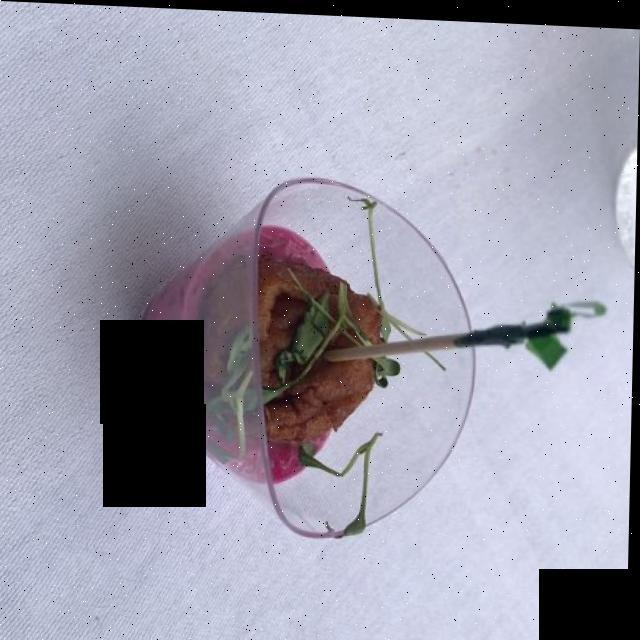falafel-balls: (212, 264, 389, 446)
sauce: (143, 221, 330, 473)
